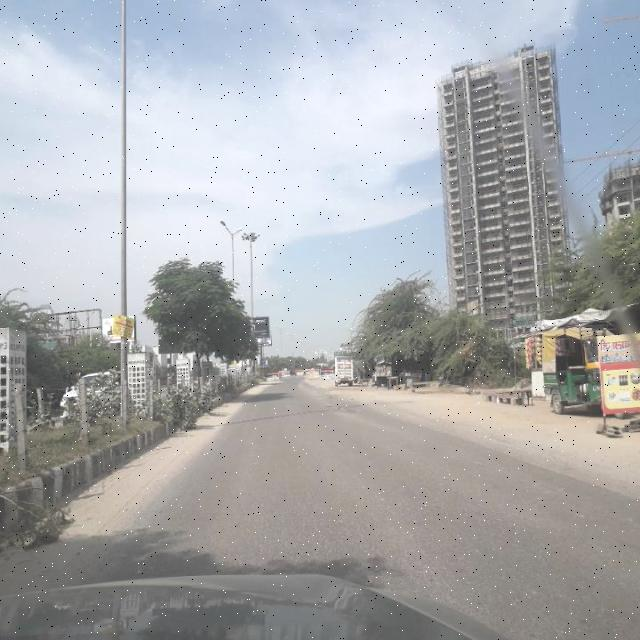D20: (135, 462, 608, 595)
